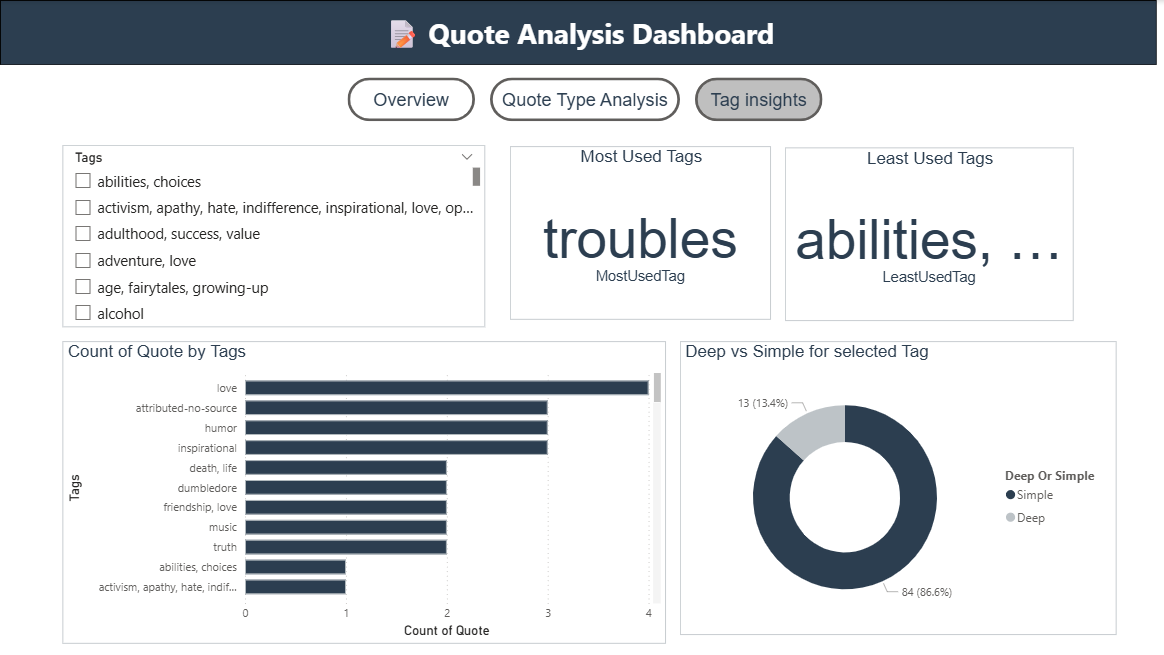

What the dashboard file says about the page in this screenshot:
{"tool":"powerbi","page":{"name":"Tag insights","canvas":[1280,720],"ordinal":3},"visuals":[{"type":"actionButton","box":[381.5,85.1,140,48],"z":0},{"type":"actionButton","box":[537.9,85.1,208.6,48],"z":1000},{"type":"actionButton","box":[763,85.1,140,48],"z":2000},{"type":"slicer","fields":{"Values":["Clean Quote data.Tags"]},"box":[68.6,159.2,463.8,200.3],"z":3000},{"type":"clusteredBarChart","fields":{"Category":["Clean Quote data.Tags"],"Y":["CountNonNull(Clean Quote data.Quote)"]},"box":[68.6,374.6,662.8,332.1],"z":4000},{"type":"card","title":"Most Used Tags","fields":{"Values":["Clean Quote data.MostUsedTag"]},"box":[559.9,160.5,286.8,190.7],"z":5000},{"type":"card","title":"Least Used Tags","fields":{"Values":["Clean Quote data.LeastUsedTag"]},"box":[861.8,161.9,317,190.7],"z":6000},{"type":"donutChart","title":"Deep vs Simple for selected Tag","fields":{"Category":["Clean Quote data.Deep Or Simple"],"Y":["CountNonNull(Clean Quote data.Quote)"]},"box":[746.5,374.6,478.9,322.5],"z":7000},{"type":"shape","box":[0,0,1269.9,71.6],"z":8000}]}

Visuals, with their boxes in screenshot pixels (x1, y1, x2, y2), scaled from the page's 1280x720 canvas onto the 1164x655 screenshot:
actionButton: region(347, 77, 474, 121)
actionButton: region(489, 77, 679, 121)
actionButton: region(694, 77, 821, 121)
slicer - Clean Quote data.Tags: region(62, 145, 484, 327)
clusteredBarChart - Clean Quote data.Tags x CountNonNull(Clean Quote data.Quote): region(62, 341, 665, 643)
"Most Used Tags" card: region(509, 146, 770, 319)
"Least Used Tags" card: region(784, 147, 1072, 321)
"Deep vs Simple for selected Tag" donutChart: region(679, 341, 1114, 634)
shape: region(0, 0, 1155, 65)
